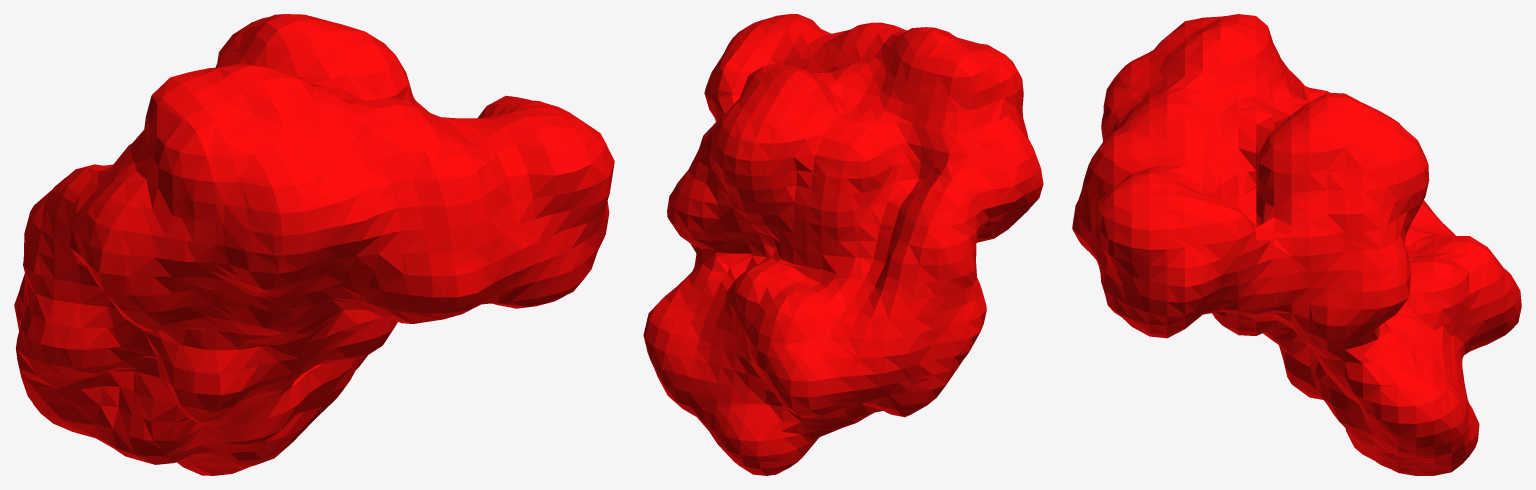
File: Heat_shock_70_kDa_protein_13_coarse.dae
The picture shows the model from 3 angles, left to right: view 1: azimuth 30°, elevation 25°; view 2: azimuth 150°, elevation 25°; view 3: azimuth 270°, elevation 25°; orthographic projection. The views are drawn at different scales.
Parts seen in each view (by area): view 1: Heat_shock_70_kDa_protein_13; view 2: Heat_shock_70_kDa_protein_13; view 3: Heat_shock_70_kDa_protein_13.
Boxes of the visible parts, bbox=[...] form: Heat_shock_70_kDa_protein_13: bbox=[14, 14, 614, 475]; Heat_shock_70_kDa_protein_13: bbox=[643, 14, 1043, 475]; Heat_shock_70_kDa_protein_13: bbox=[1072, 14, 1521, 475].
Bounding box in the file's own units: 71.31 × 74.51 × 73.62.
